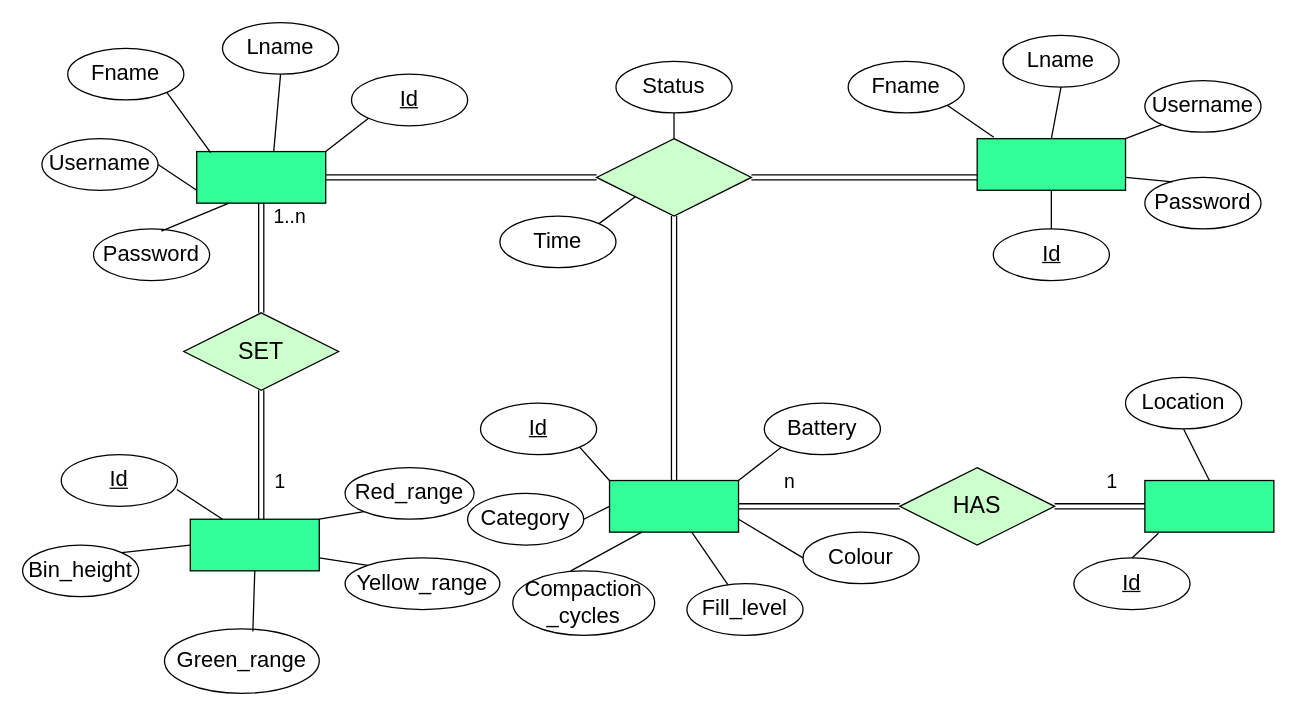
Some shapes in this 1296 by 716 pixel diagram are drawn without their labels. The centre of each missing label's shape, as x and y in pixels:
ADMIN: (260,176)
ASSIGN: (673,176)
BIN: (673,505)
COLLECTOR: (1051,163)
SYSTEM: (254,544)
UNIT: (1209,505)
